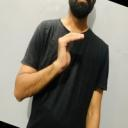hand: (56, 31, 84, 70)
